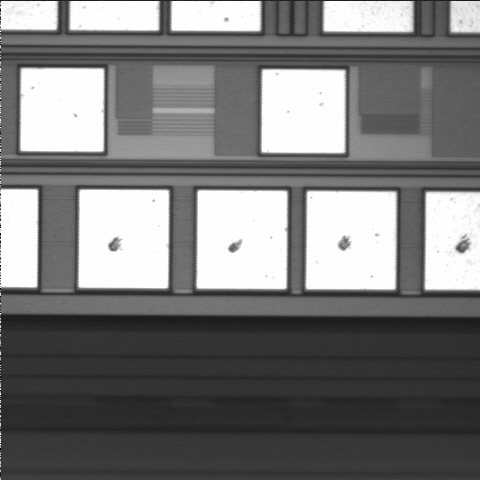pad: (197, 190, 287, 289), (306, 191, 396, 290), (79, 190, 169, 288), (21, 68, 104, 152), (262, 69, 345, 153)
